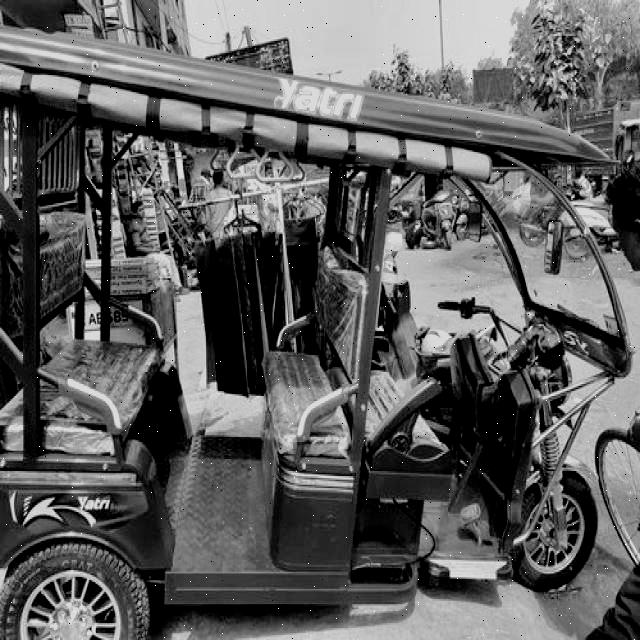Toto: (0, 18, 607, 639)
